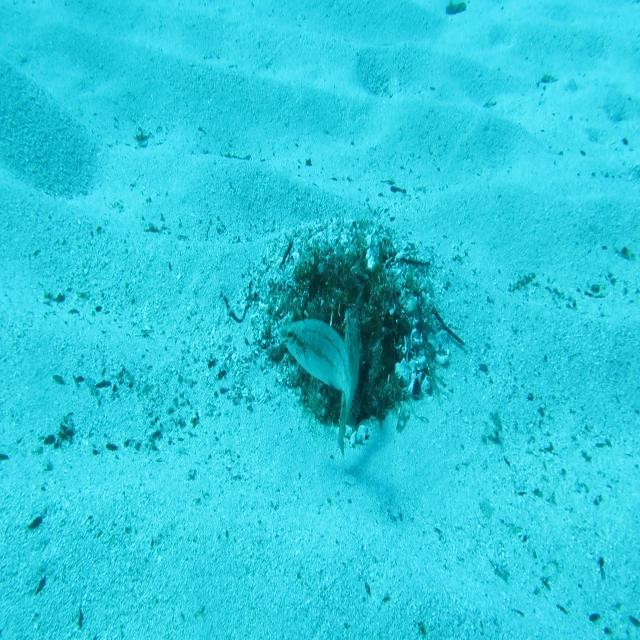FAN: (336, 309, 364, 459)
core_nest: (321, 268, 365, 295)
female: (274, 314, 362, 436)
nest: (241, 202, 455, 456)
vegetation: (446, 0, 466, 18)
